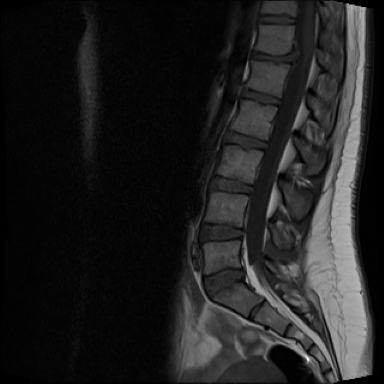Lumbar Disc Bulge (LDB): (197, 264, 250, 302)
Normal IVD: (216, 125, 273, 156), (204, 170, 257, 199), (191, 218, 247, 245), (236, 83, 284, 111), (254, 10, 300, 28)
Spondylolisthesis: (185, 255, 268, 320)
Thoracic Disc Bulge (TDB): (242, 41, 307, 67)
